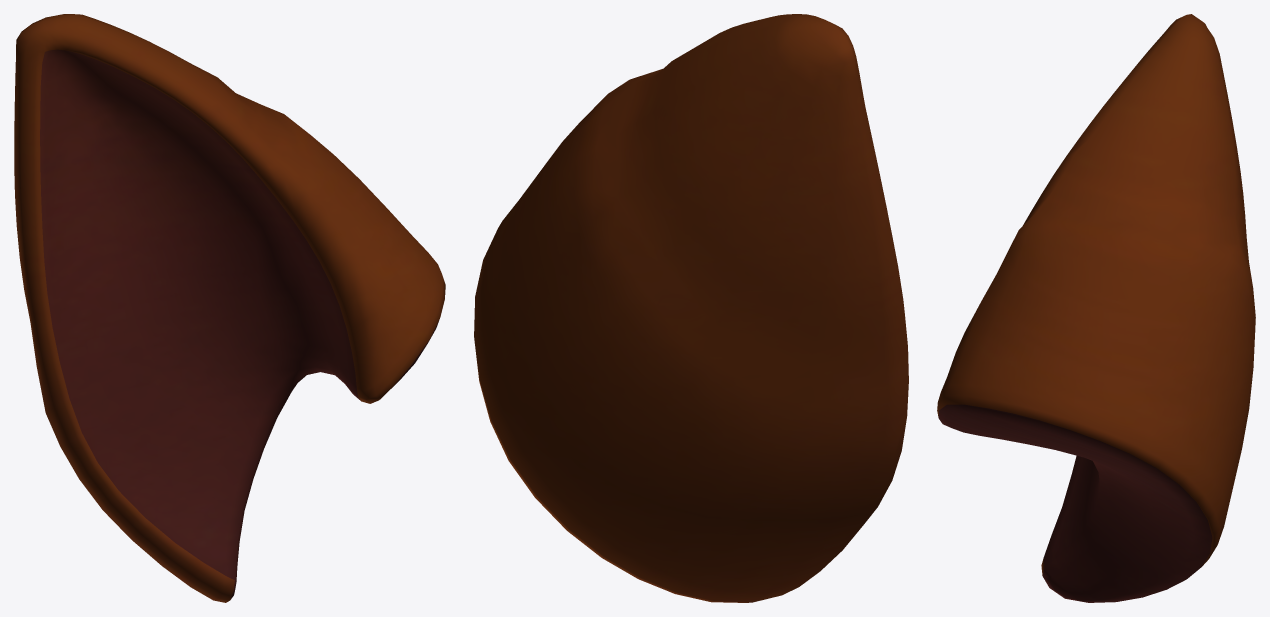
The model's file is Ingredient_BatEar.fbx.
3 renders of one model, left to right at view 1: azimuth 30°, elevation 25°; view 2: azimuth 150°, elevation 25°; view 3: azimuth 270°, elevation 25°, orthographic. The views are drawn at different scales.
Parts seen in each view (by area): view 1: Ingredient_BatEar; view 2: Ingredient_BatEar; view 3: Ingredient_BatEar.
Boxes of the visible parts, left/top/right/bottom form: Ingredient_BatEar: left=14, top=14, right=445, bottom=602; Ingredient_BatEar: left=474, top=14, right=908, bottom=602; Ingredient_BatEar: left=937, top=14, right=1255, bottom=602.
Size of the model in its own units: 70.07 by 102 by 55.8.
1 material, 1 textured.
